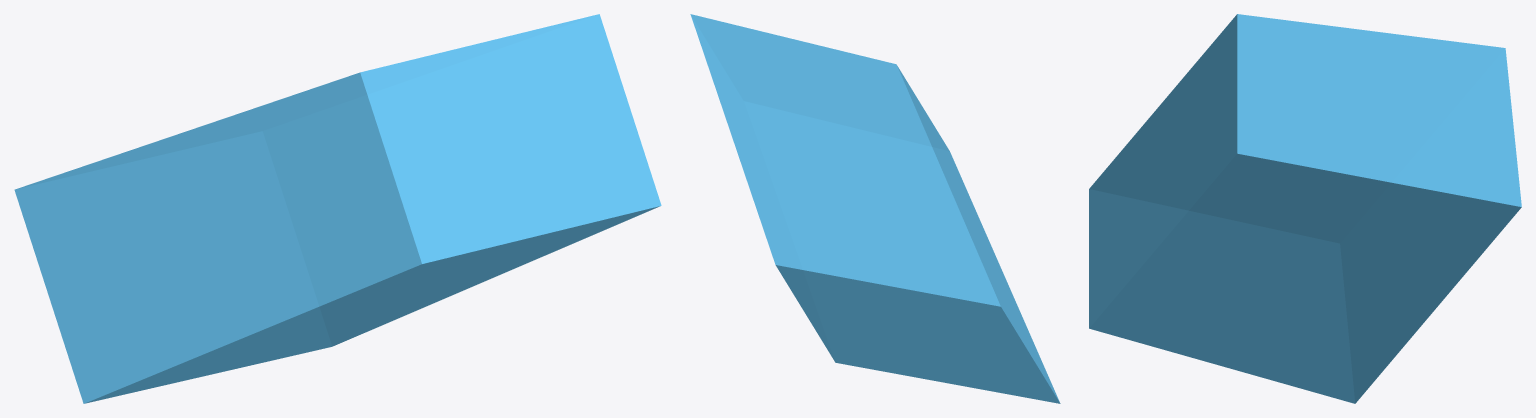
File: Event_421127236_HBrechit_11.fbx
3 renders of one model, left to right at view 1: azimuth 30°, elevation 25°; view 2: azimuth 150°, elevation 25°; view 3: azimuth 270°, elevation 25°, orthographic. The views are drawn at different scales.
Parts seen in each view (by area): view 1: Model; view 2: Model; view 3: Model.
Part boxes in pixels (x1,y1,x2,y2): Model: (14, 14, 661, 403); Model: (690, 14, 1060, 403); Model: (1089, 14, 1521, 403).
Bounding box in the file's own units: 1.08 × 0.6873 × 0.7143.
